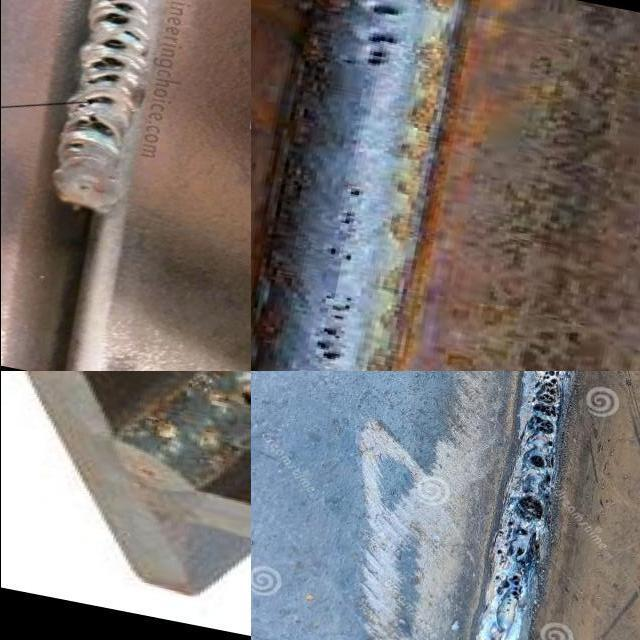defect: (515, 371, 572, 485), (486, 517, 544, 617), (330, 31, 407, 70), (96, 0, 142, 45), (306, 326, 353, 363), (310, 292, 364, 323), (69, 114, 117, 140), (514, 491, 544, 523), (368, 0, 407, 22), (74, 93, 118, 111), (323, 243, 356, 265), (331, 208, 358, 229), (342, 182, 374, 199), (90, 56, 124, 71), (85, 73, 119, 86), (233, 387, 250, 412), (99, 37, 127, 51), (64, 142, 86, 153)
